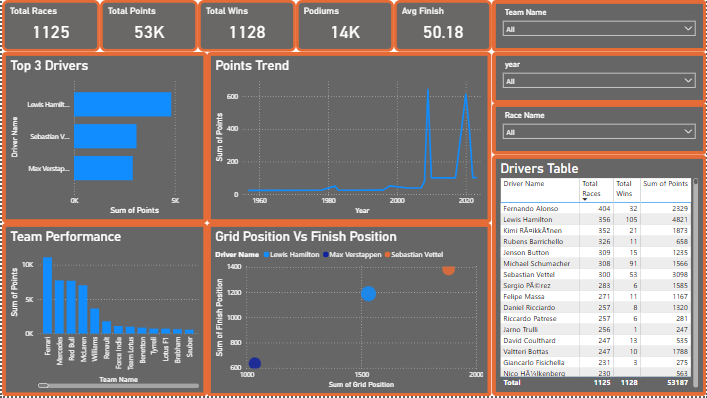

Layout of this report page (visuals, bound fields, positions):
{"tool":"powerbi","page":{"name":"Page 1","canvas":[1280,720],"ordinal":0},"visuals":[{"type":"card","title":"Total Races","fields":{"Values":["constructors.Total Races"]},"box":[0,0,178.1,94.1],"z":0},{"type":"card","title":"Total Points","fields":{"Values":["constructors.Total Points"]},"box":[178.1,0,178.1,94.1],"z":1000},{"type":"card","title":"Total Wins","fields":{"Values":["constructors.Total Wins"]},"box":[356.1,0,178.1,94.1],"z":2000},{"type":"card","title":"Podiums","fields":{"Values":["constructors.Podiums"]},"box":[534.2,0,178.1,94.1],"z":3000},{"type":"card","title":"Avg Finish","fields":{"Values":["constructors.Avg Finish"]},"box":[712.2,0,178.1,94.1],"z":4000},{"type":"barChart","title":"Top 3 Drivers","fields":{"Y":["Sum(results.Points)"],"Category":["drivers.Driver Name"]},"box":[0,94.1,372.9,310.8],"z":5000},{"type":"columnChart","title":"Team Performance","fields":{"Category":["constructors.Team Name"],"Y":["Sum(results.Points)"]},"box":[0,405,373.3,315],"z":6000},{"type":"lineChart","title":"Points Trend","fields":{"Y":["Sum(results.Points)"],"Category":["races.date.Variation.Date Hierarchy.Year"]},"box":[372.9,94.1,517.4,310.8],"z":7000},{"type":"scatterChart","title":"Grid Position Vs Finish Position","fields":{"X":["Sum(results.Grid Position)"],"Y":["Sum(results.Finish Position)"],"Size":["Sum(results.Points)"],"Series":["drivers.Driver Name"]},"box":[372.9,404.8,517.4,315.8],"z":8000},{"type":"tableEx","title":"Drivers Table","fields":{"Values":["drivers.Driver Name","constructors.Total Races","constructors.Total Wins","Sum(results.Points)"]},"box":[890,282,390,438],"z":9000},{"type":"slicer","title":"Top 10 Drivers","fields":{"Values":["constructors.Team Name"]},"box":[890,0,390,94],"z":10000},{"type":"slicer","title":"Top 10 Drivers","fields":{"Values":["races.year"]},"box":[890,94,390,94],"z":11000},{"type":"slicer","title":"Top 10 Drivers","fields":{"Values":["races.Race Name"]},"box":[890,188,390,94],"z":12000}]}

Visuals, with their boxes in screenshot pixels (x1, y1, x2, y2), scaled from the page's 1280x720 canvas onto the 707x398 screenshot:
"Total Races" card: [x1=0, y1=0, x2=98, y2=52]
"Total Points" card: [x1=98, y1=0, x2=197, y2=52]
"Total Wins" card: [x1=197, y1=0, x2=295, y2=52]
"Podiums" card: [x1=295, y1=0, x2=393, y2=52]
"Avg Finish" card: [x1=393, y1=0, x2=492, y2=52]
"Top 3 Drivers" barChart: [x1=0, y1=52, x2=206, y2=224]
"Team Performance" columnChart: [x1=0, y1=224, x2=206, y2=397]
"Points Trend" lineChart: [x1=206, y1=52, x2=492, y2=224]
"Grid Position Vs Finish Position" scatterChart: [x1=206, y1=224, x2=492, y2=397]
"Drivers Table" tableEx: [x1=492, y1=156, x2=706, y2=397]
"Top 10 Drivers" slicer: [x1=492, y1=0, x2=706, y2=52]
"Top 10 Drivers" slicer: [x1=492, y1=52, x2=706, y2=104]
"Top 10 Drivers" slicer: [x1=492, y1=104, x2=706, y2=156]
